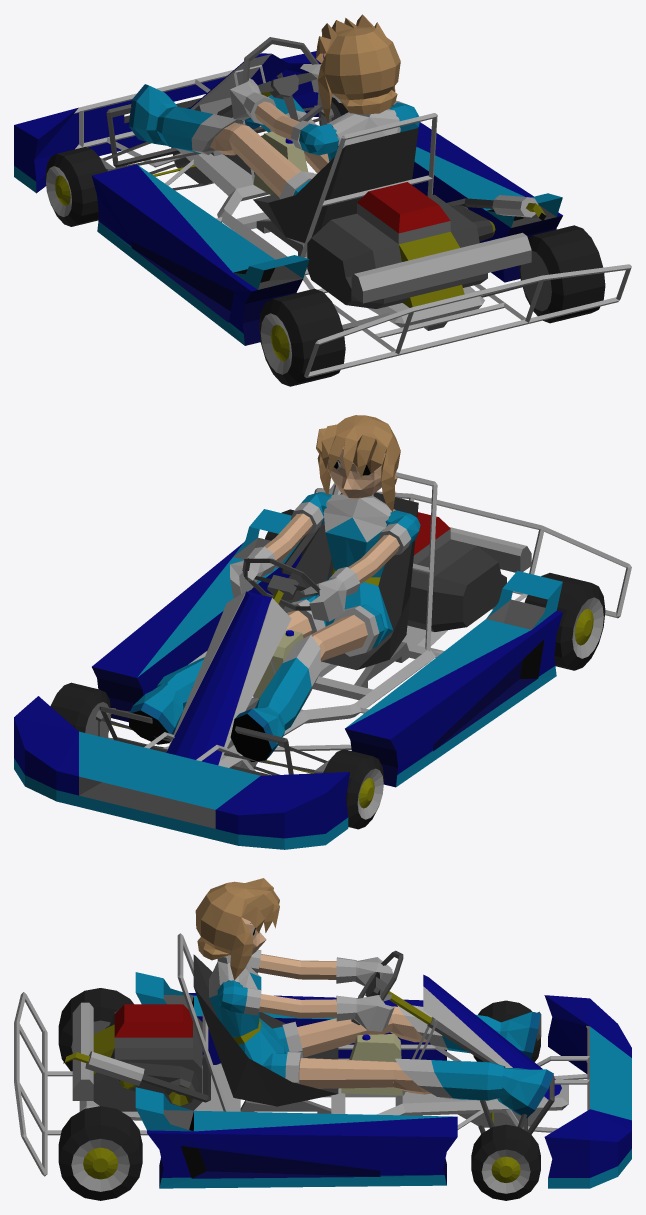
File: kart.obj
3 renders of one model, top to bottom at view 1: azimuth 30°, elevation 25°; view 2: azimuth 150°, elevation 25°; view 3: azimuth 270°, elevation 25°, orthographic. The views are drawn at different scales.
Visible parts, largest first — view 1: ShapeIndexedFaceSet.085_ShapeIndexedFaceSet.086, ShapeIndexedFaceSet.084_ShapeIndexedFaceSet.085, ShapeIndexedFaceSet.041_ShapeIndexedFaceSet.042, ShapeIndexedFaceSet.083_ShapeIndexedFaceSet.084, ShapeIndexedFaceSet.005_ShapeIndexedFaceSet.006, ShapeIndexedFaceSet.090_ShapeIndexedFaceSet.091, ShapeIndexedFaceSet.078_ShapeIndexedFaceSet.079, ShapeIndexedFaceSet.039_ShapeIndexedFaceSet.040, ShapeIndexedFaceSet.082_ShapeIndexedFaceSet.083, ShapeIndexedFaceSet.091_ShapeIndexedFaceSet.092, ShapeIndexedFaceSet.045_ShapeIndexedFaceSet.046, ShapeIndexedFaceSet.047_ShapeIndexedFaceSet.048 (+27 smaller); view 2: ShapeIndexedFaceSet.085_ShapeIndexedFaceSet.086, ShapeIndexedFaceSet.083_ShapeIndexedFaceSet.084, ShapeIndexedFaceSet.093_ShapeIndexedFaceSet, ShapeIndexedFaceSet.041_ShapeIndexedFaceSet.042, ShapeIndexedFaceSet.092_ShapeIndexedFaceSet.093, ShapeIndexedFaceSet.091_ShapeIndexedFaceSet.092, ShapeIndexedFaceSet.005_ShapeIndexedFaceSet.006, ShapeIndexedFaceSet.045_ShapeIndexedFaceSet.046, ShapeIndexedFaceSet.039_ShapeIndexedFaceSet.040, ShapeIndexedFaceSet.084_ShapeIndexedFaceSet.085, ShapeIndexedFaceSet.078_ShapeIndexedFaceSet.079, ShapeIndexedFaceSet.087_ShapeIndexedFaceSet.088 (+32 smaller); view 3: ShapeIndexedFaceSet.085_ShapeIndexedFaceSet.086, ShapeIndexedFaceSet.083_ShapeIndexedFaceSet.084, ShapeIndexedFaceSet.005_ShapeIndexedFaceSet.006, ShapeIndexedFaceSet.041_ShapeIndexedFaceSet.042, ShapeIndexedFaceSet.084_ShapeIndexedFaceSet.085, ShapeIndexedFaceSet.082_ShapeIndexedFaceSet.083, ShapeIndexedFaceSet.039_ShapeIndexedFaceSet.040, ShapeIndexedFaceSet.091_ShapeIndexedFaceSet.092, ShapeIndexedFaceSet.048_ShapeIndexedFaceSet.049, ShapeIndexedFaceSet.092_ShapeIndexedFaceSet.093, ShapeIndexedFaceSet.090_ShapeIndexedFaceSet.091, ShapeIndexedFaceSet.074_ShapeIndexedFaceSet.075 (+45 smaller).
Part boxes in pixels (x1,y1,x2,y2): ShapeIndexedFaceSet.085_ShapeIndexedFaceSet.086: (14,51,562,333); ShapeIndexedFaceSet.084_ShapeIndexedFaceSet.085: (74,70,631,377); ShapeIndexedFaceSet.041_ShapeIndexedFaceSet.042: (253,128,418,242); ShapeIndexedFaceSet.083_ShapeIndexedFaceSet.084: (14,147,524,345); ShapeIndexedFaceSet.005_ShapeIndexedFaceSet.006: (316,14,400,123); ShapeIndexedFaceSet.090_ShapeIndexedFaceSet.091: (34,63,510,282); ShapeIndexedFaceSet.078_ShapeIndexedFaceSet.079: (259,288,345,386); ShapeIndexedFaceSet.039_ShapeIndexedFaceSet.040: (176,148,484,327); ShapeIndexedFaceSet.082_ShapeIndexedFaceSet.083: (519,225,605,323); ShapeIndexedFaceSet.091_ShapeIndexedFaceSet.092: (131,215,562,345); ShapeIndexedFaceSet.045_ShapeIndexedFaceSet.046: (307,205,493,308); ShapeIndexedFaceSet.047_ShapeIndexedFaceSet.048: (351,203,531,303); ShapeIndexedFaceSet.085_ShapeIndexedFaceSet.086: (14,542,562,838); ShapeIndexedFaceSet.083_ShapeIndexedFaceSet.084: (14,557,556,849); ShapeIndexedFaceSet.093_ShapeIndexedFaceSet: (166,591,271,765); ShapeIndexedFaceSet.041_ShapeIndexedFaceSet.042: (278,492,418,670); ShapeIndexedFaceSet.092_ShapeIndexedFaceSet.093: (167,472,437,764); ShapeIndexedFaceSet.091_ShapeIndexedFaceSet.092: (92,660,537,787); ShapeIndexedFaceSet.005_ShapeIndexedFaceSet.006: (316,415,400,511); ShapeIndexedFaceSet.045_ShapeIndexedFaceSet.046: (431,546,506,631); ShapeIndexedFaceSet.039_ShapeIndexedFaceSet.040: (218,625,447,768); ShapeIndexedFaceSet.084_ShapeIndexedFaceSet.085: (144,488,631,771); ShapeIndexedFaceSet.078_ShapeIndexedFaceSet.079: (524,573,605,670); ShapeIndexedFaceSet.087_ShapeIndexedFaceSet.088: (79,776,215,828); ShapeIndexedFaceSet.085_ShapeIndexedFaceSet.086: (147,993,631,1177); ShapeIndexedFaceSet.083_ShapeIndexedFaceSet.084: (159,995,631,1188); ShapeIndexedFaceSet.005_ShapeIndexedFaceSet.006: (195,878,279,980); ShapeIndexedFaceSet.041_ShapeIndexedFaceSet.042: (193,954,338,1106); ShapeIndexedFaceSet.084_ShapeIndexedFaceSet.085: (14,992,589,1176); ShapeIndexedFaceSet.082_ShapeIndexedFaceSet.083: (58,1106,142,1200); ShapeIndexedFaceSet.039_ShapeIndexedFaceSet.040: (79,1058,568,1120); ShapeIndexedFaceSet.091_ShapeIndexedFaceSet.092: (159,1049,446,1187); ShapeIndexedFaceSet.048_ShapeIndexedFaceSet.049: (93,1012,202,1111); ShapeIndexedFaceSet.092_ShapeIndexedFaceSet.093: (177,933,546,1111); ShapeIndexedFaceSet.090_ShapeIndexedFaceSet.091: (197,995,589,1073); ShapeIndexedFaceSet.074_ShapeIndexedFaceSet.075: (471,1124,540,1200).
Size of the model in its own units: 10.37 by 8.26 by 18.78.
